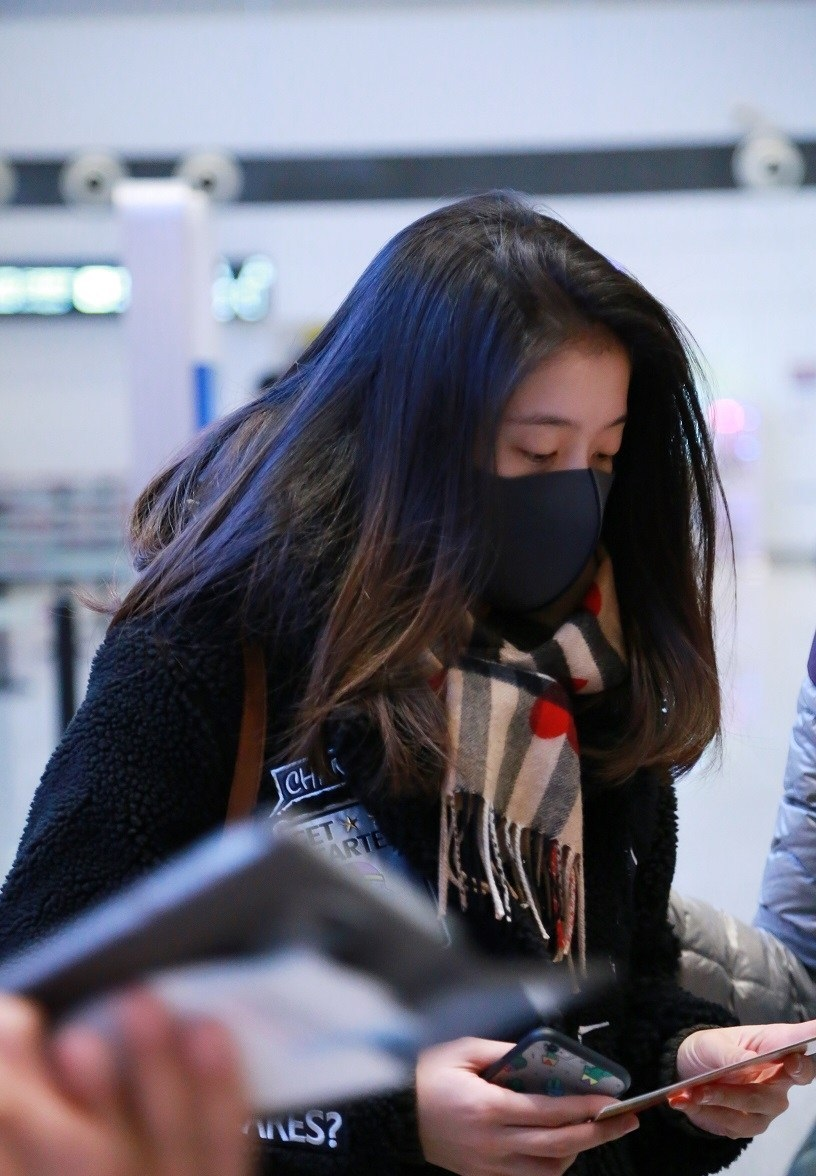face_mask: (498, 338, 626, 635)
